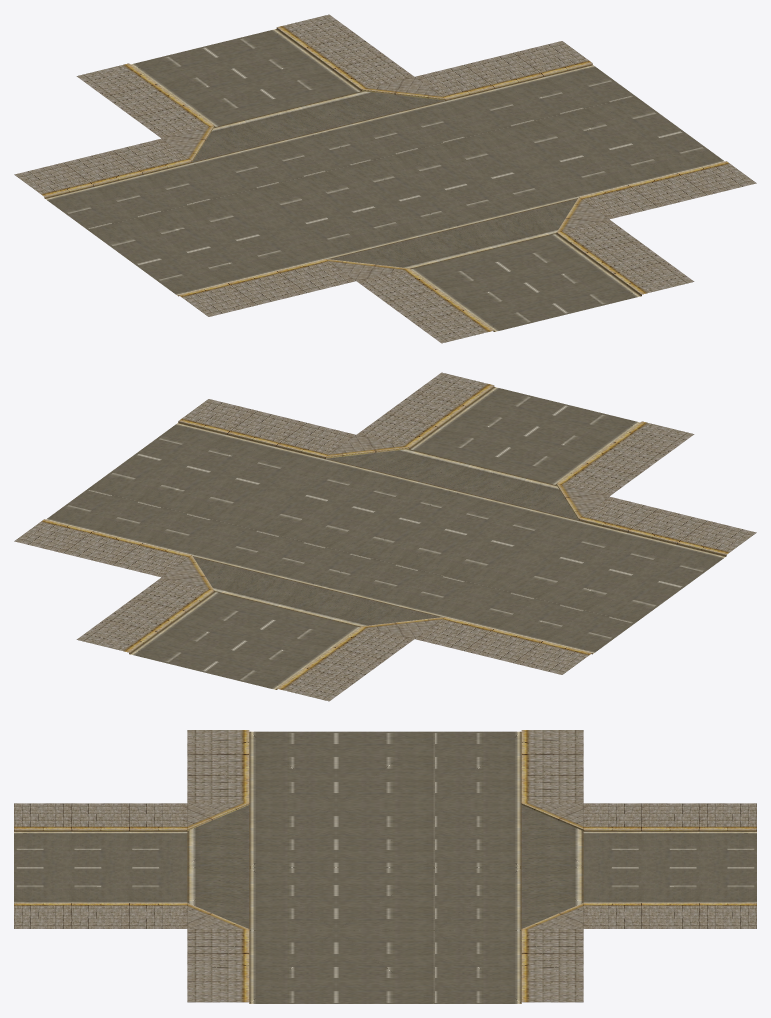
File: Road2_Part_09_A.fbx
3 renders of one model, top to bottom at view 1: azimuth 30°, elevation 25°; view 2: azimuth 150°, elevation 25°; view 3: azimuth 270°, elevation 25°, orthographic.
Parts seen in each view (by area): view 1: Road_Part_14; view 2: Road_Part_14; view 3: Road_Part_14.
Part boxes in pixels (<box>): Road_Part_14: <box>14,14,756,343</box>; Road_Part_14: <box>14,372,756,701</box>; Road_Part_14: <box>14,730,756,1003</box>.
Bounding box in the file's own units: 5200 × 13.63 × 6000.
